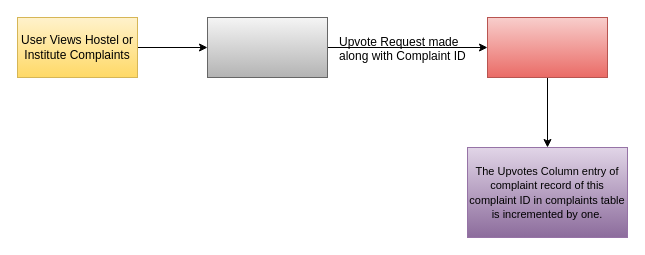
The diagram is 645 pixels wide and 255 high, and some of its shapes have lost their labels. The shapes that lost their labels are listed below. From the top down, each one's centre as x and y in pixels, then its label:
At point 267,47: "User Clicks on Upvote Button".
At point 547,47: "UPVOTE API".
